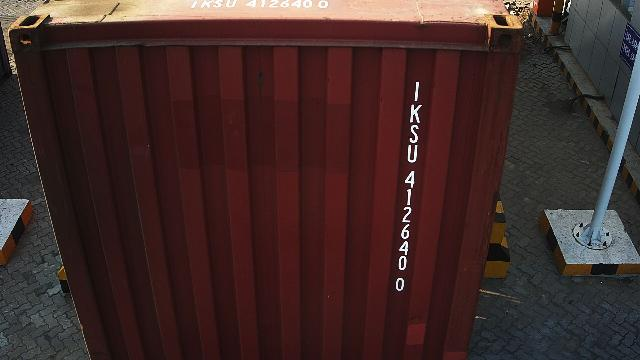0: (398, 255, 407, 270), (396, 277, 404, 291)
1: (406, 188, 412, 206)
2: (402, 206, 412, 224)
4: (404, 170, 416, 188), (399, 240, 409, 256)
6: (401, 223, 411, 239)
I: (414, 80, 420, 102)
K: (410, 104, 422, 124)
S: (409, 124, 419, 144)
U: (408, 144, 418, 164)
